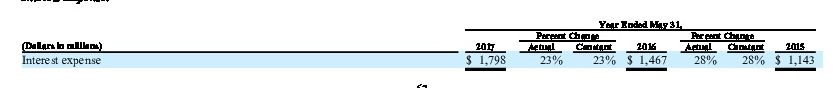table: (0, 0, 837, 88)
